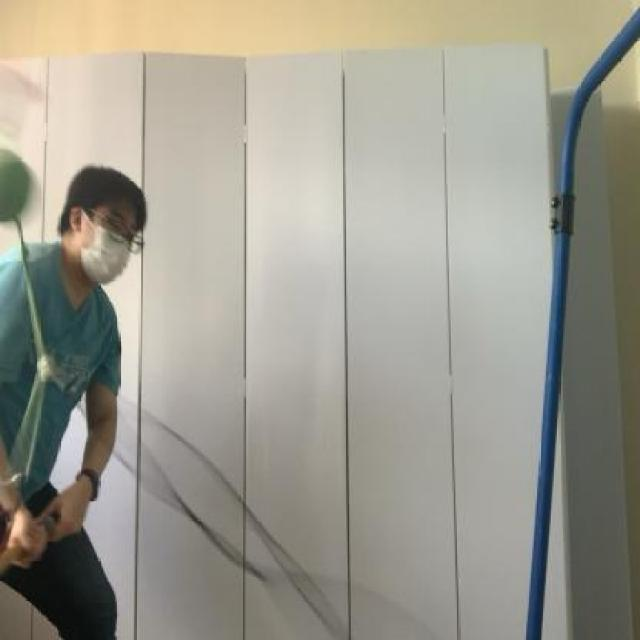baseball: (1, 137, 33, 231)
